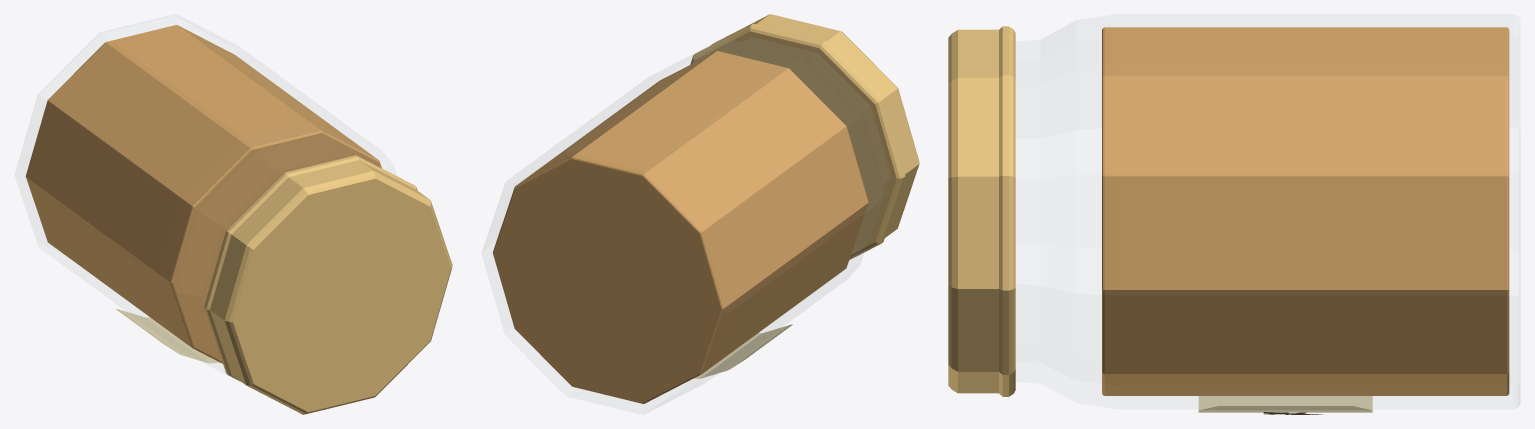
Rendered from honey_jar.glb.
3 renders of one model, left to right at view 1: azimuth 30°, elevation 25°; view 2: azimuth 150°, elevation 25°; view 3: azimuth 270°, elevation 25°, orthographic. The views are drawn at different scales.
Visible parts, largest first — view 1: honey_jar; view 2: honey_jar; view 3: honey_jar.
Boxes of the visible parts, x1=… form: honey_jar: x1=15, y1=14, x2=452, y2=414; honey_jar: x1=482, y1=14, x2=919, y2=414; honey_jar: x1=948, y1=14, x2=1519, y2=414.
Bounding box in the file's own units: 0.071 × 0.07 × 0.102.
